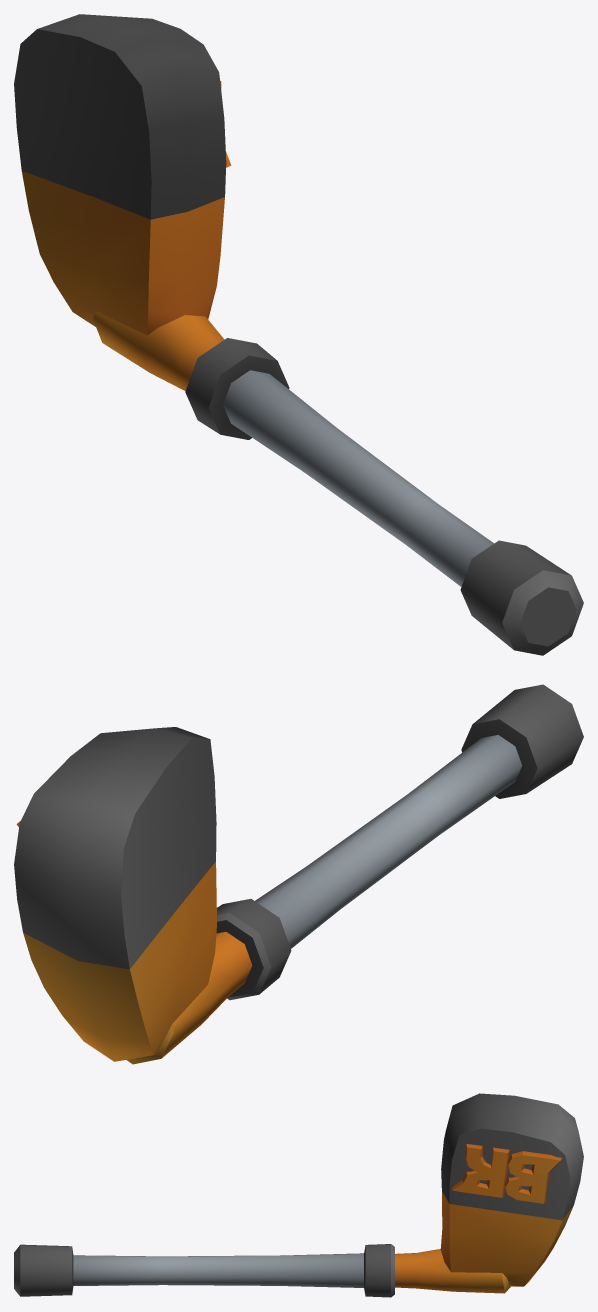
Rendered from Melee_Putter.fbx.
The picture shows the model from 3 angles, top to bottom: view 1: azimuth 30°, elevation 25°; view 2: azimuth 150°, elevation 25°; view 3: azimuth 270°, elevation 25°; orthographic projection. The views are drawn at different scales.
Visible parts, largest first — view 1: Melee_Putter; view 2: Melee_Putter; view 3: Melee_Putter.
Part boxes in pixels (<box>): Melee_Putter: <box>14,14,583,655</box>; Melee_Putter: <box>14,684,583,1064</box>; Melee_Putter: <box>14,1093,583,1297</box>.
Size of the model in its own units: 0.1792 by 0.4601 by 1.23.
